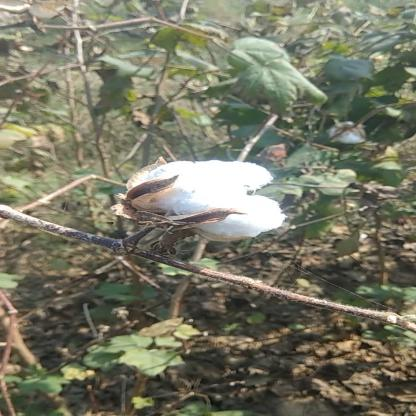cotton_ready: (104, 141, 278, 280)
